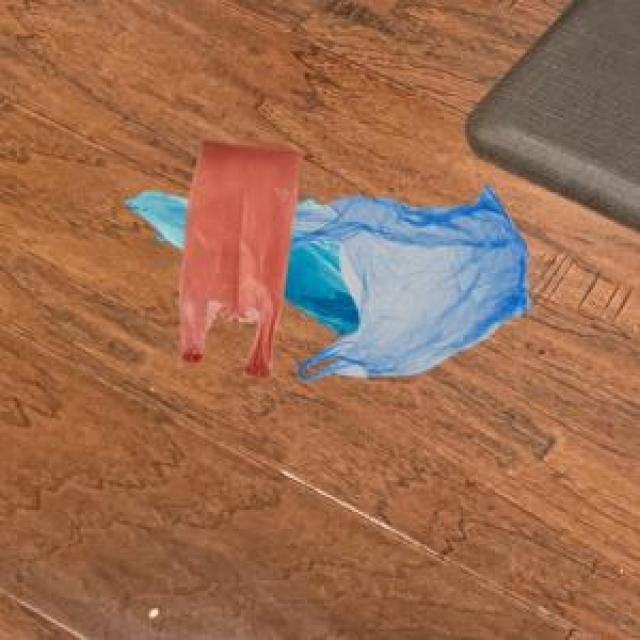plastic: (112, 122, 552, 402)
